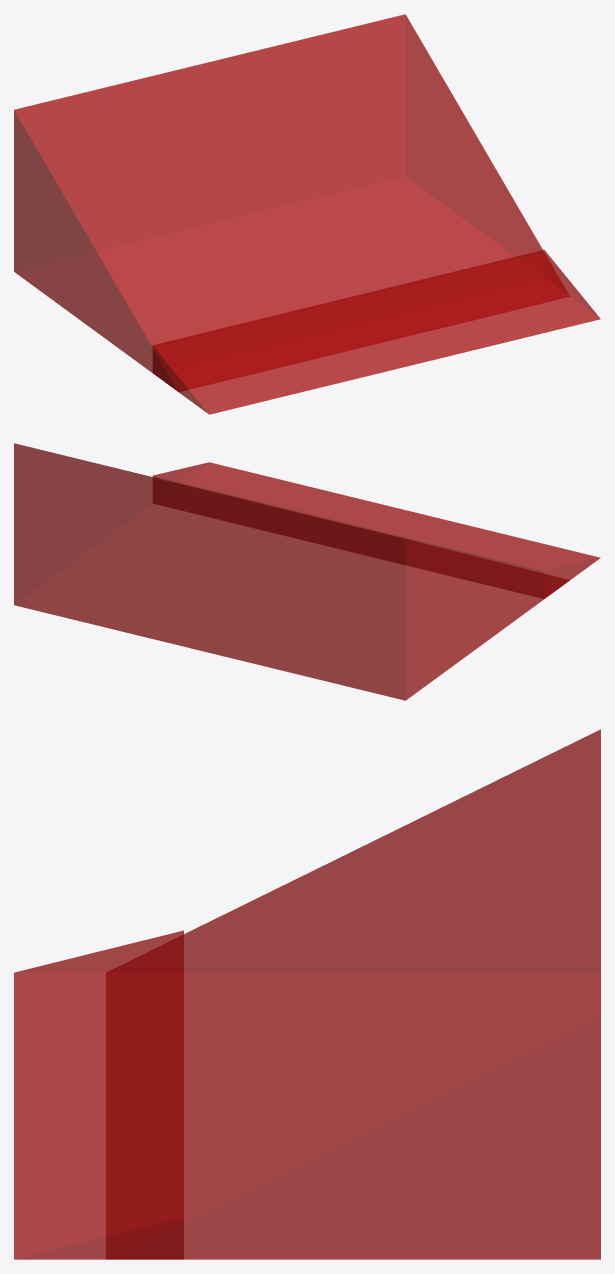
Rendered from SM_Prop_Ramp_Logs_01_Collision.fbx.
3 views of the same model, one above another, from view 1: azimuth 30°, elevation 25°; view 2: azimuth 150°, elevation 25°; view 3: azimuth 270°, elevation 25° (orthographic). The views are drawn at different scales.
Visible parts, largest first — view 1: SM_Prop_Ramp_Logs_01_Collision; view 2: SM_Prop_Ramp_Logs_01_Collision; view 3: SM_Prop_Ramp_Logs_01_Collision.
Part boxes in pixels (x1,y1,x2,y2): SM_Prop_Ramp_Logs_01_Collision: (14, 14, 600, 414); SM_Prop_Ramp_Logs_01_Collision: (14, 443, 600, 700); SM_Prop_Ramp_Logs_01_Collision: (14, 729, 600, 1259).
Size of the model in its own units: 918 by 363 by 793.
